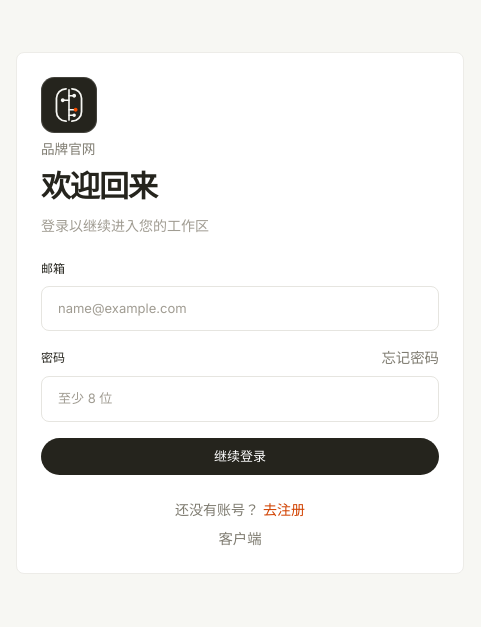
Scenario: login and register pages › renders login request errors inline
Type "user@example.com" into the field labelled "邮箱" at (240, 308), box 41,286 -> 439,331
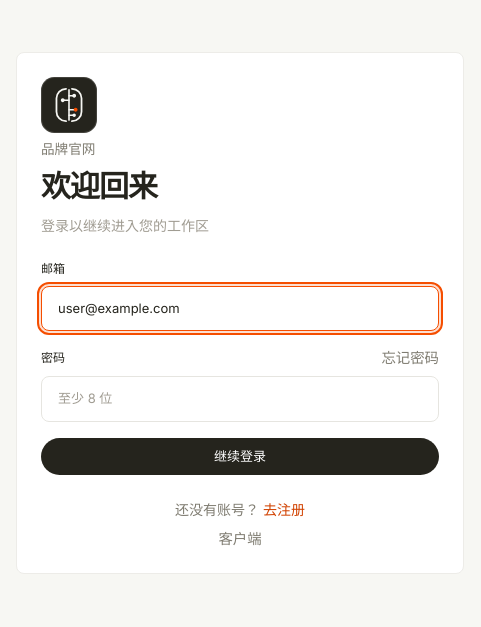
Type "wrong-password" into the password field labelled "密码" at (240, 399), box 41,376 -> 439,422
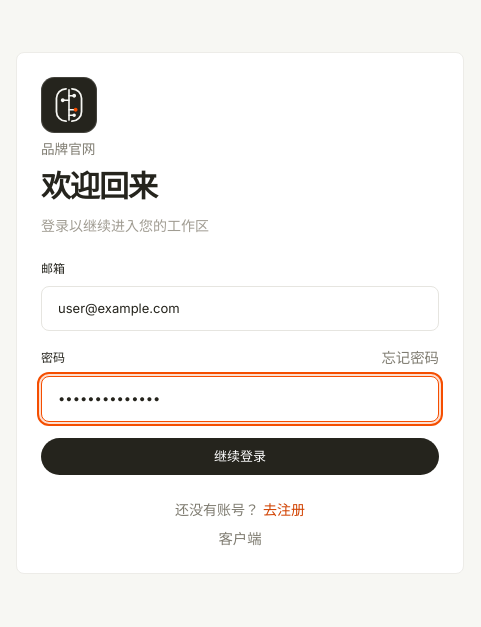
Click the button "继续登录" at (240, 456), box 41,438 -> 439,475
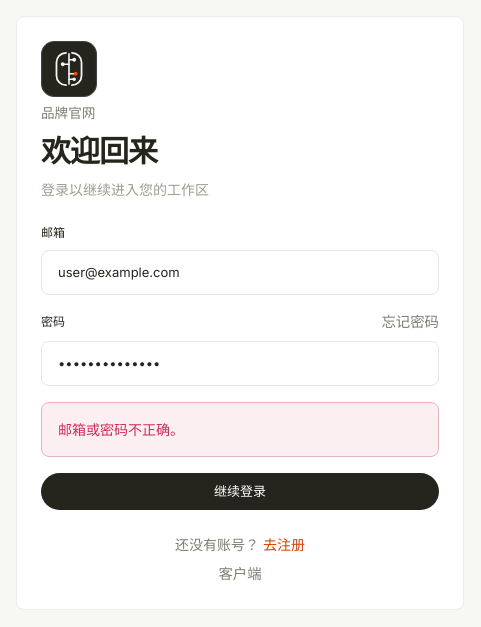
Check: the text "邮箱或密码不正确。" is shown, box 41,402 -> 439,457
